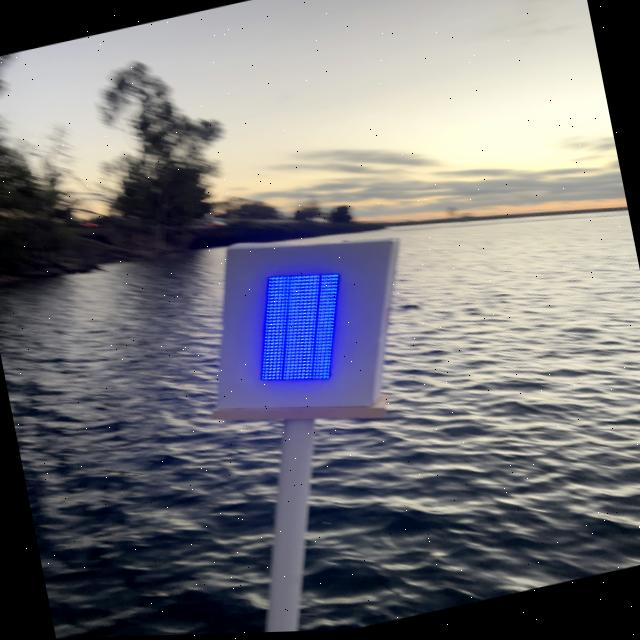led: (225, 240, 378, 420)
